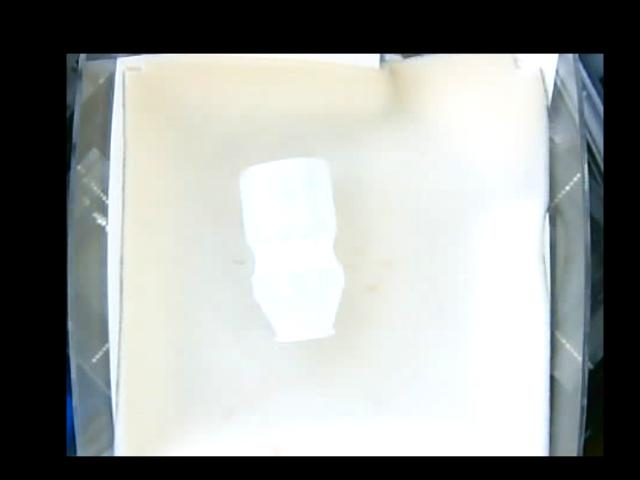Bottle: (238, 156, 344, 339)
